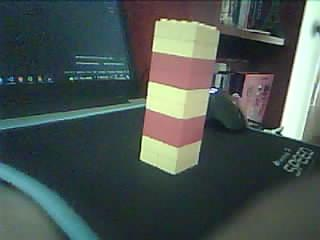lego: (139, 17, 220, 174)
